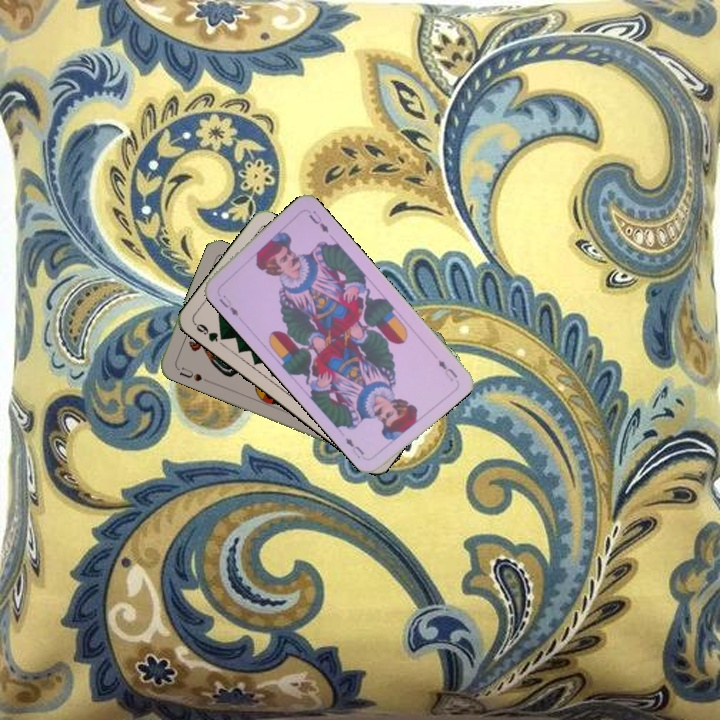EU: (215, 291, 241, 319), (434, 356, 460, 384)
G9: (190, 319, 229, 344)
SU: (172, 363, 211, 384)
